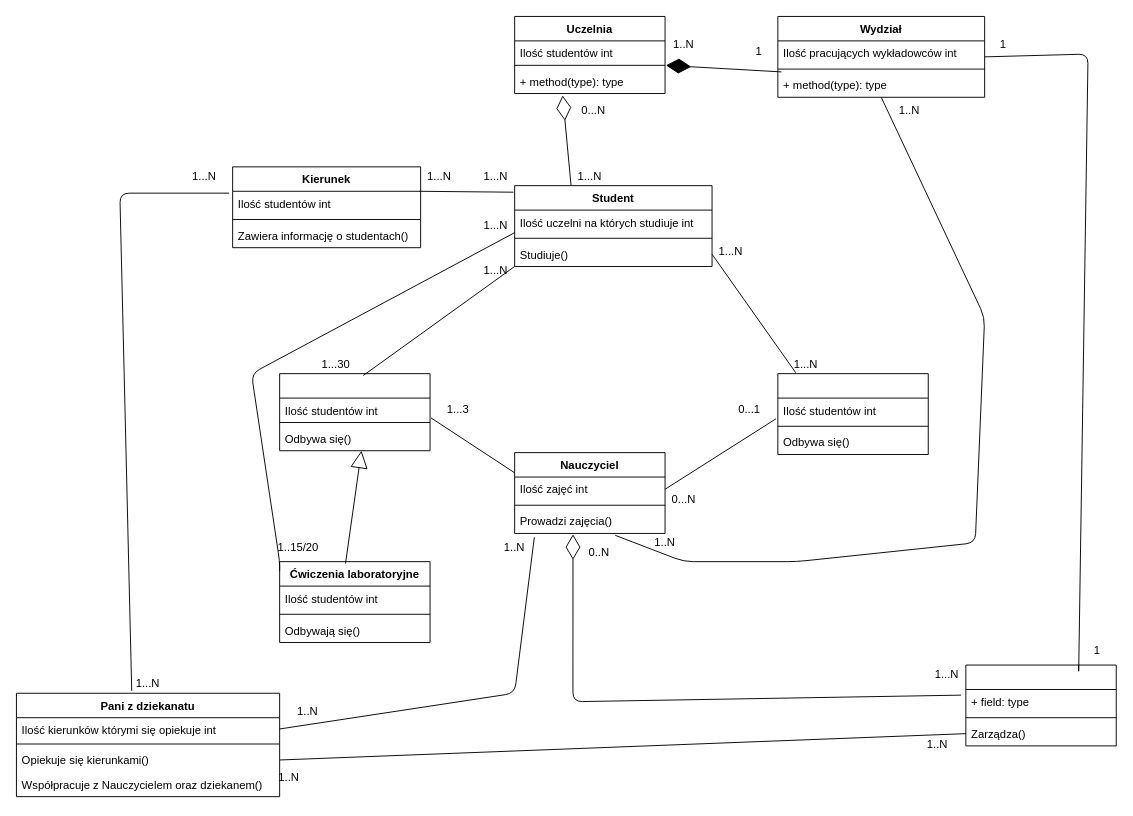
The diagram is 1133 pixels wide and 816 high, and some of its shapes have lost their labels. The box of each missing label's shape, as (x1, y1, x2, y2) in pixels:
Dziekan: (965, 664, 1116, 746)
Wykład: (777, 373, 928, 454)
Ćwiczenia: (279, 373, 430, 451)
